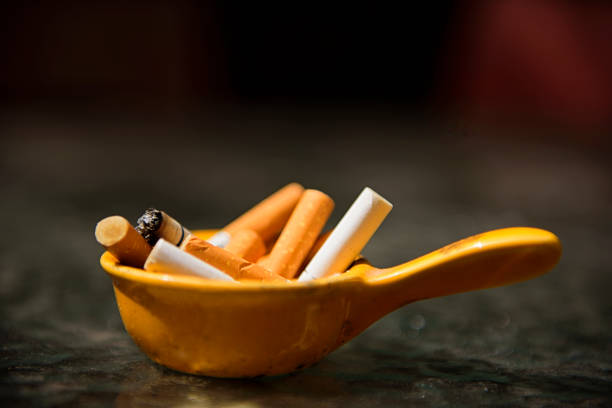cigarette: (298, 185, 394, 282), (205, 181, 307, 249), (261, 188, 335, 279), (181, 233, 291, 283), (142, 237, 235, 282), (95, 214, 152, 266), (131, 206, 190, 249), (224, 228, 268, 263)
